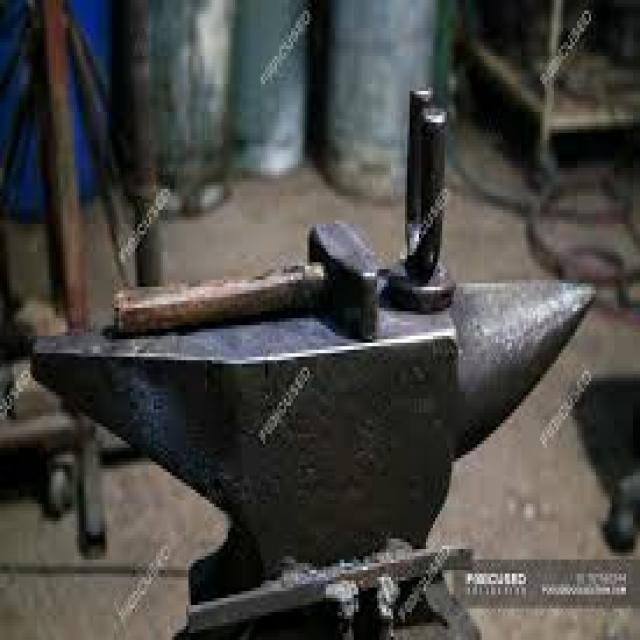hammer: (104, 216, 396, 354)
